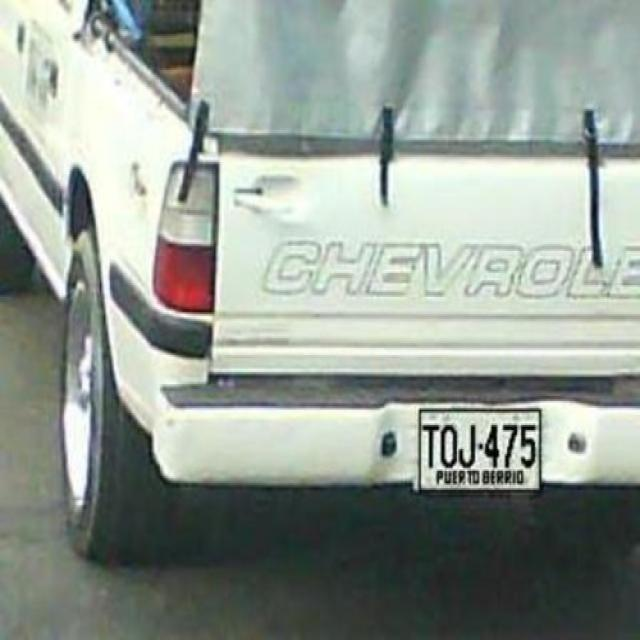placas: (418, 411, 541, 468)
